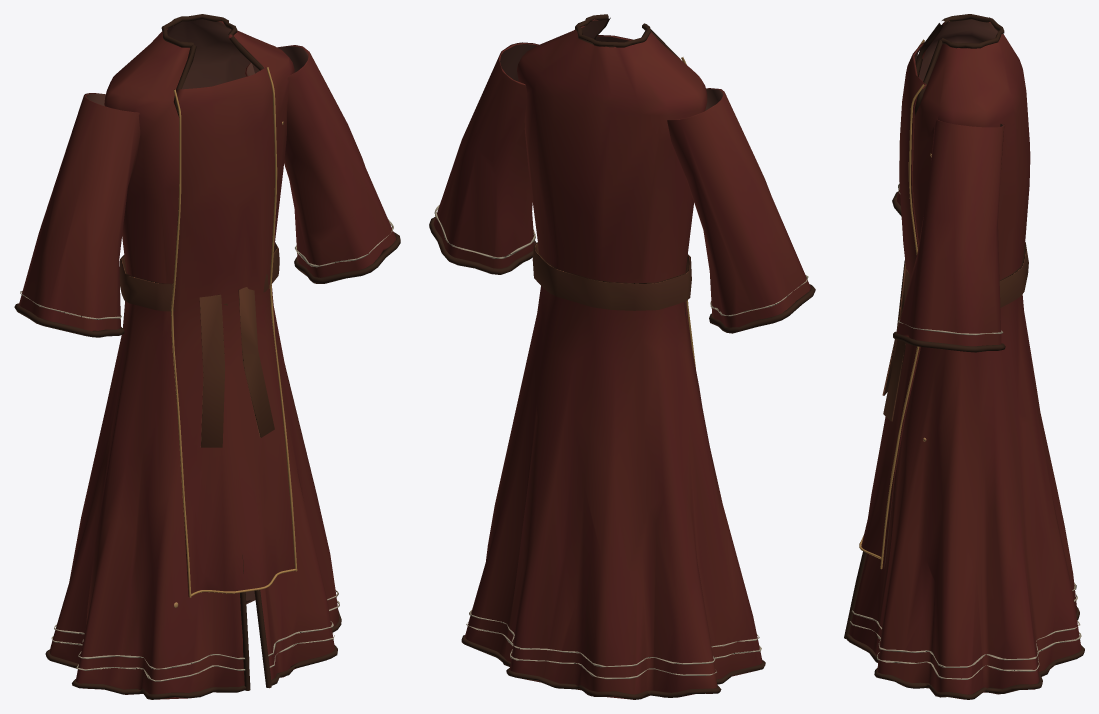
3 views of the same model, side by side, from view 1: azimuth 30°, elevation 25°; view 2: azimuth 150°, elevation 25°; view 3: azimuth 270°, elevation 25° (orthographic).
Parts seen in each view (by area): view 1: woven wool, peened pin; view 2: woven wool; view 3: woven wool, peened pin.
Part boxes in pixels (x1,y1,x2,y2): woven wool: (14,14,400,699); peened pin: (171,67,297,607); woven wool: (429,14,815,699); woven wool: (844,14,1084,699); peened pin: (859,39,931,569).
Bounding box in the file's own units: 0.8672 × 1.42 × 0.5039.
